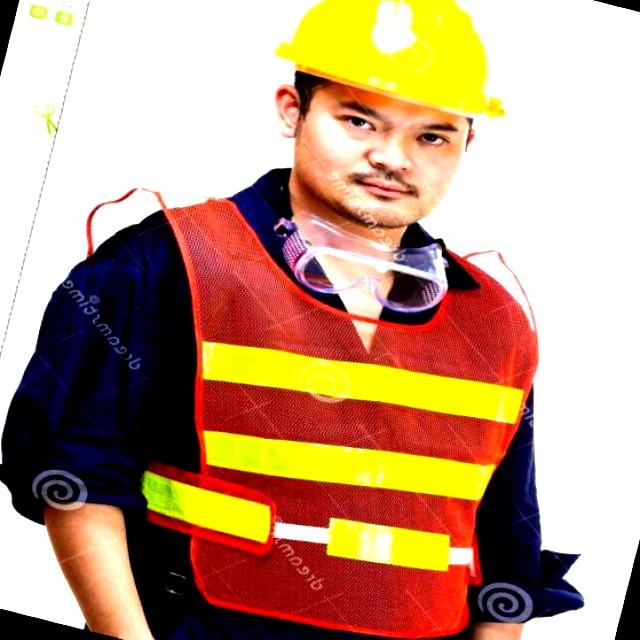helmet: (281, 3, 510, 116)
safety_vest: (160, 196, 544, 639)
